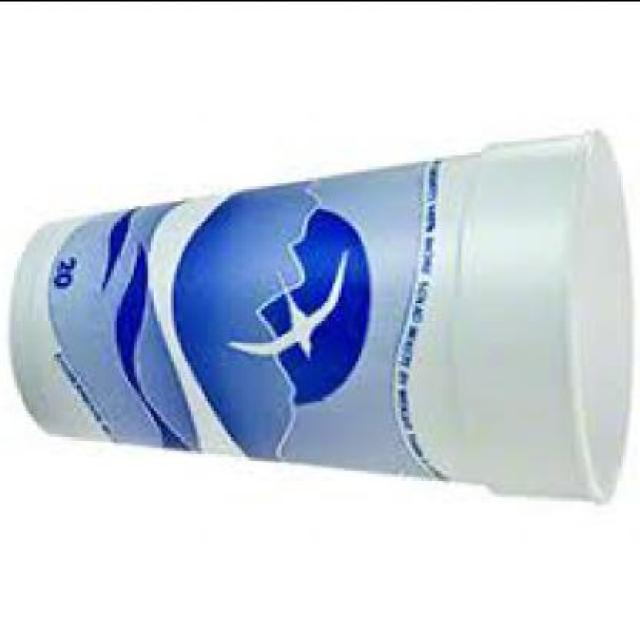PAPER: (14, 125, 637, 501)
